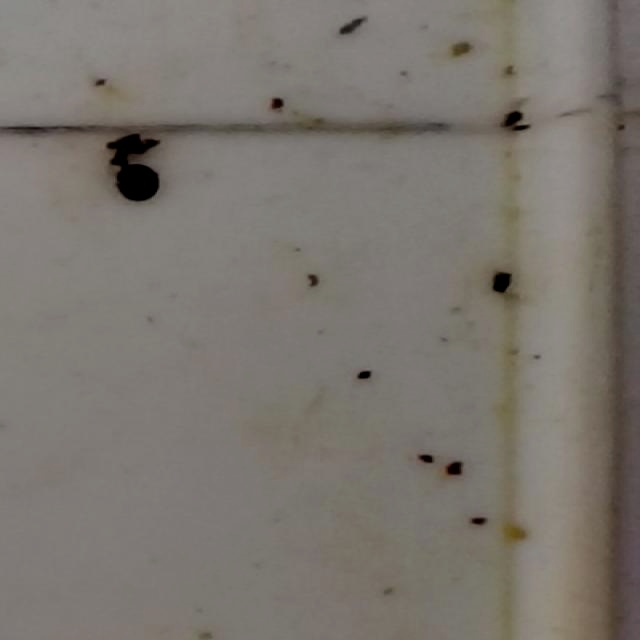varroa: (112, 160, 160, 204)
